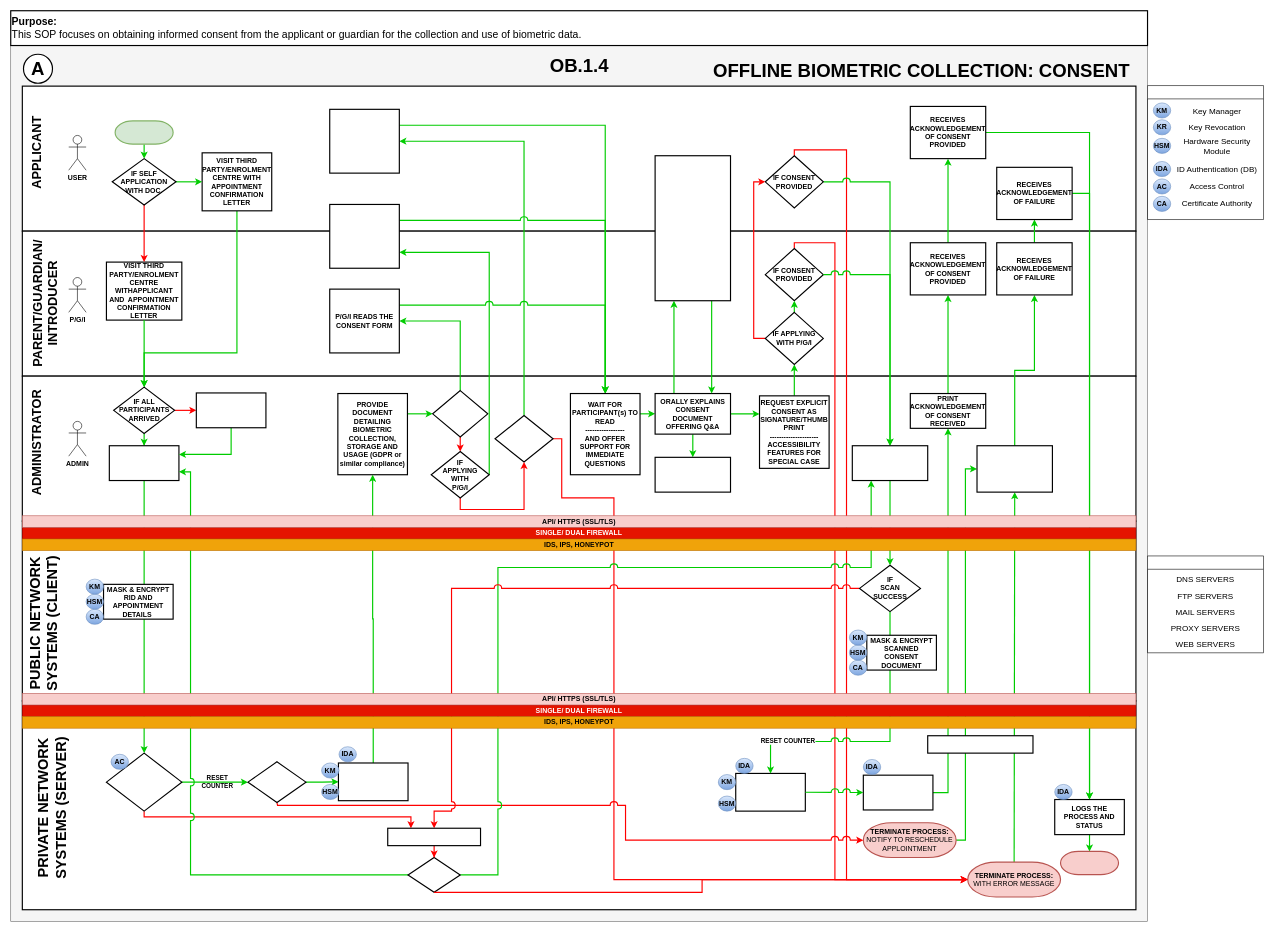
The diagram is 1274 pixels wide and 931 high, and some of its shapes have lost their labels. Here are the shapes that lost their labels. From the top down, the box of each, then its label:
(114, 120, 173, 144): START (OFFLINE)
(329, 108, 400, 173): READS THE CONSENT FORM
(1147, 85, 1264, 220): LEGEND
(329, 204, 400, 269): BOTH READ THE CONSENT FORM
(654, 155, 731, 301): PARTICIPANT(s) ENGAGE IN Q&A
(195, 392, 266, 428): WAIT FOR ALL PARTICIPANTS TO ARRIVE
(432, 390, 488, 437): IF APPLICANT AGE <5
(494, 415, 553, 462): IF APPLICANT AGE >16
(108, 445, 179, 481): VERIFY TIME, CENTRE AND RID
(654, 456, 731, 492): PROVIDE CONTACT DETAILS FOR FURTHER SUPPORT
(851, 445, 928, 481): SCAN AND UPLOAD CONSENT DOCUMENT
(976, 445, 1053, 492): PRINT ACKNOWLEDGEMENT OF FAILURE CONSENT PROCESS WITH REASON
(1147, 555, 1264, 653): PUBLIC NETWORK
(927, 735, 1033, 753): NOTIFICATION GENERATOR
(106, 752, 182, 811): IF RID & APPOINTMENT DETAILS MATCH
(247, 761, 306, 803): IF ARRIVAL ON/BEFORE TIME
(338, 762, 408, 801): UPDATE ARRIVAL STATUS IN RID ACCOUNT
(735, 773, 806, 811): STORE CONSENT DOCUMENT IN RID ACCOUNT
(862, 774, 933, 810): UPDATE RID WITH CONSENT RECEIVED STATUS
(387, 827, 481, 846): EXCEPTION AND ERROR HANDLING (COUNTER)
(407, 857, 461, 893): IF RETRY COUNT <=3
(1060, 851, 1119, 875): END
